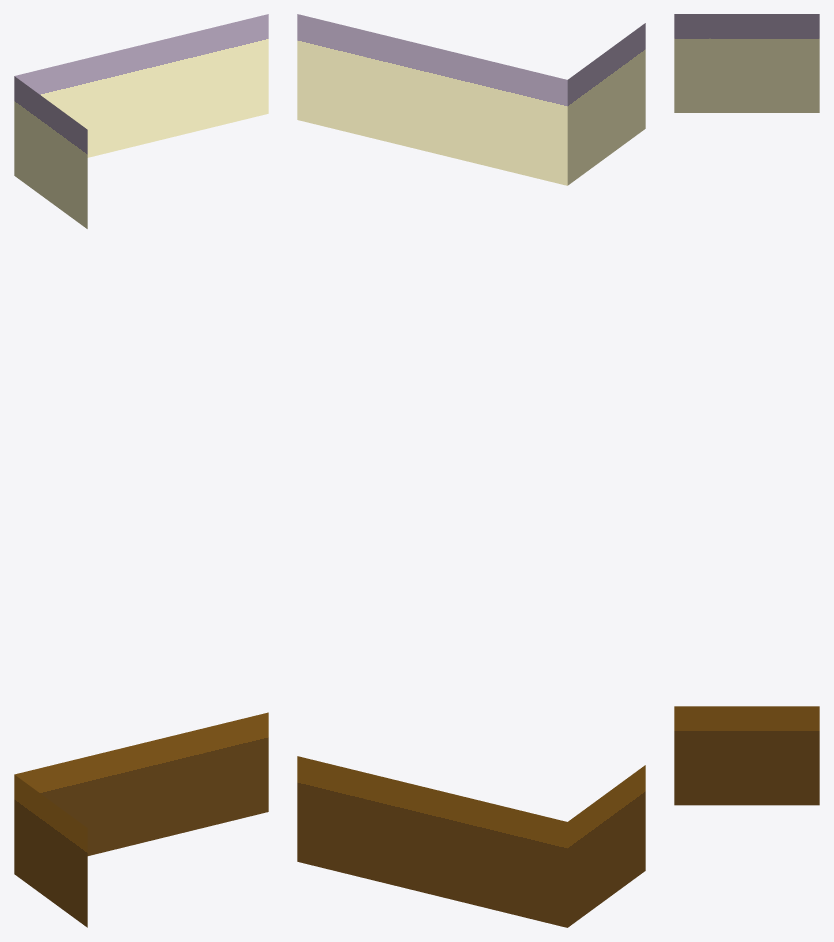
The picture shows the model from 3 angles, left to right: view 1: azimuth 30°, elevation 25°; view 2: azimuth 150°, elevation 25°; view 3: azimuth 270°, elevation 25°; orthographic projection. The views are drawn at different scales.
Size of the model in its own units: 1 by 3 by 0.5.
Materials: 1 (1 with a texture image).
